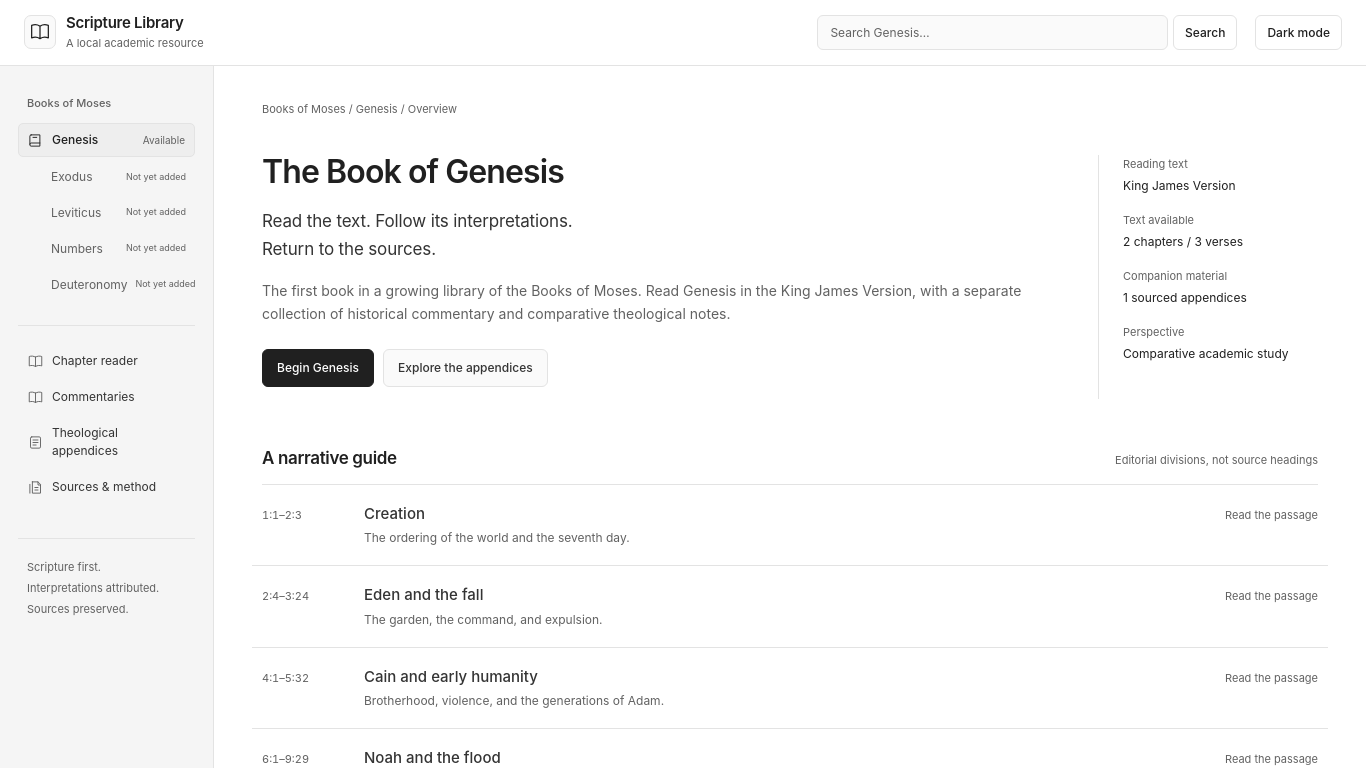
React reader (component-only mocked API) › searches literal whitespace-normalized Scripture, preserving text and empty-state guidance
Expected: the heading "The Book of Genesis" is shown, x1=262 y1=152 x2=564 y2=191
Type "exact wording" into the search field named "Search the Genesis text" at (993, 32), box x1=817 y1=15 x2=1168 y2=50
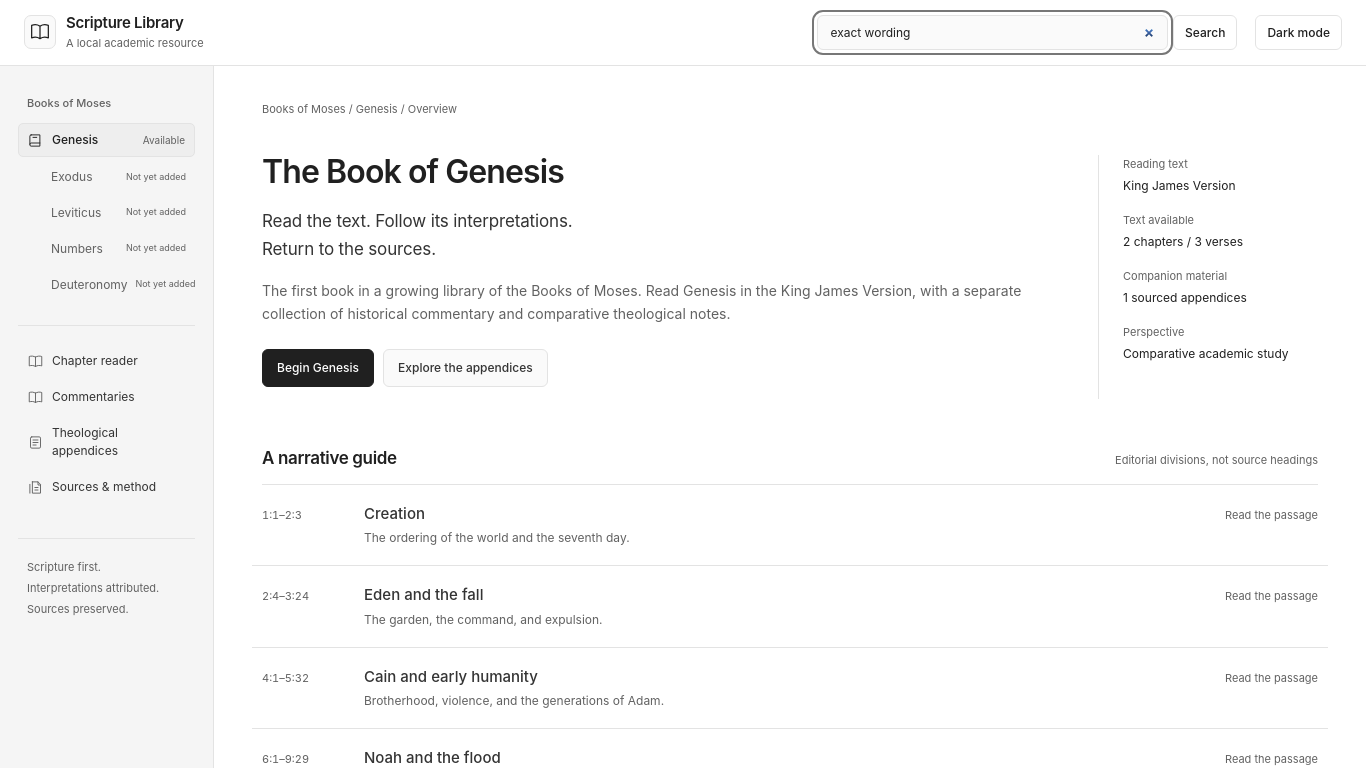
Click the button "Search" at (1205, 32), box x1=1173 y1=15 x2=1237 y2=50
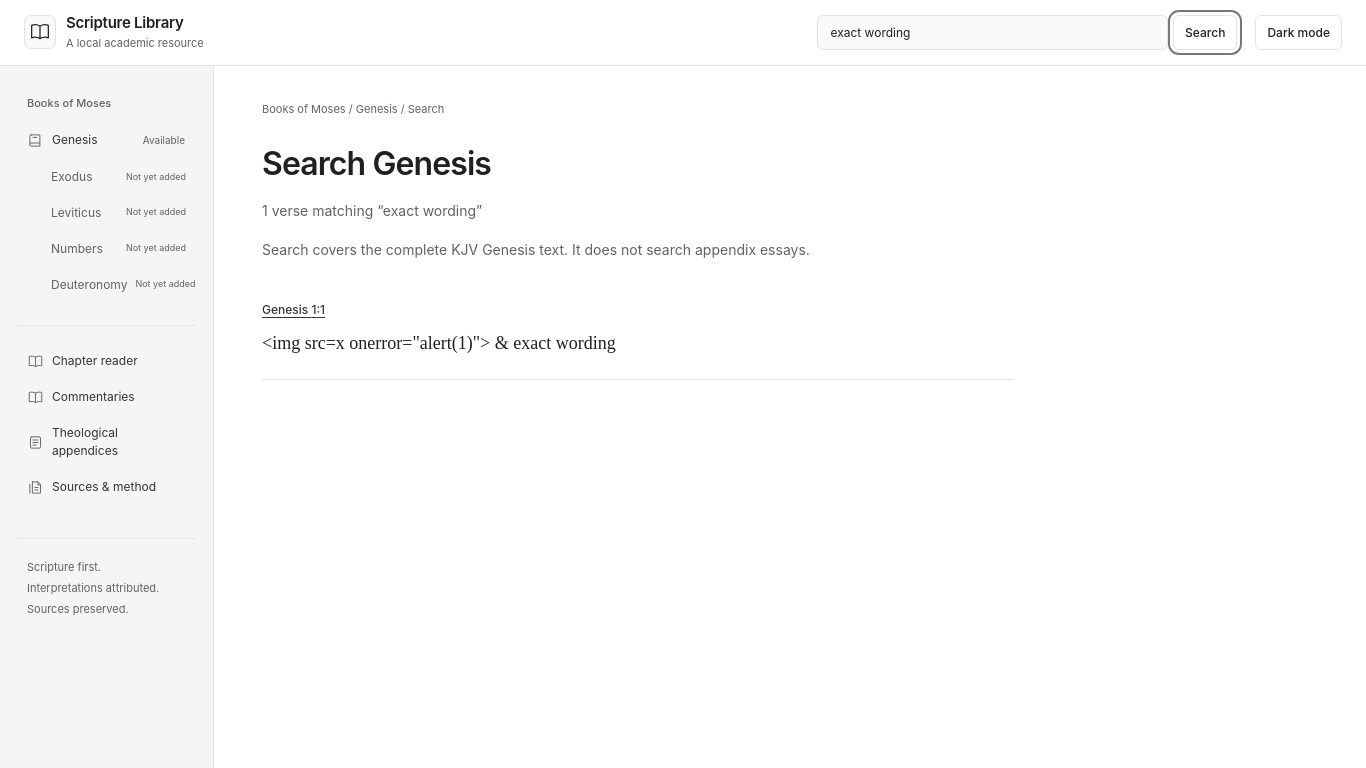
Now the heading "Search Genesis" is shown, box x1=262 y1=144 x2=491 y2=183
Now the text "It does not search appendix essays" is shown, box x1=262 y1=241 x2=810 y2=258
Replace the text in the search field named "Search the Genesis text" with "unmatchedliteral" at (993, 32), box x1=817 y1=15 x2=1168 y2=50
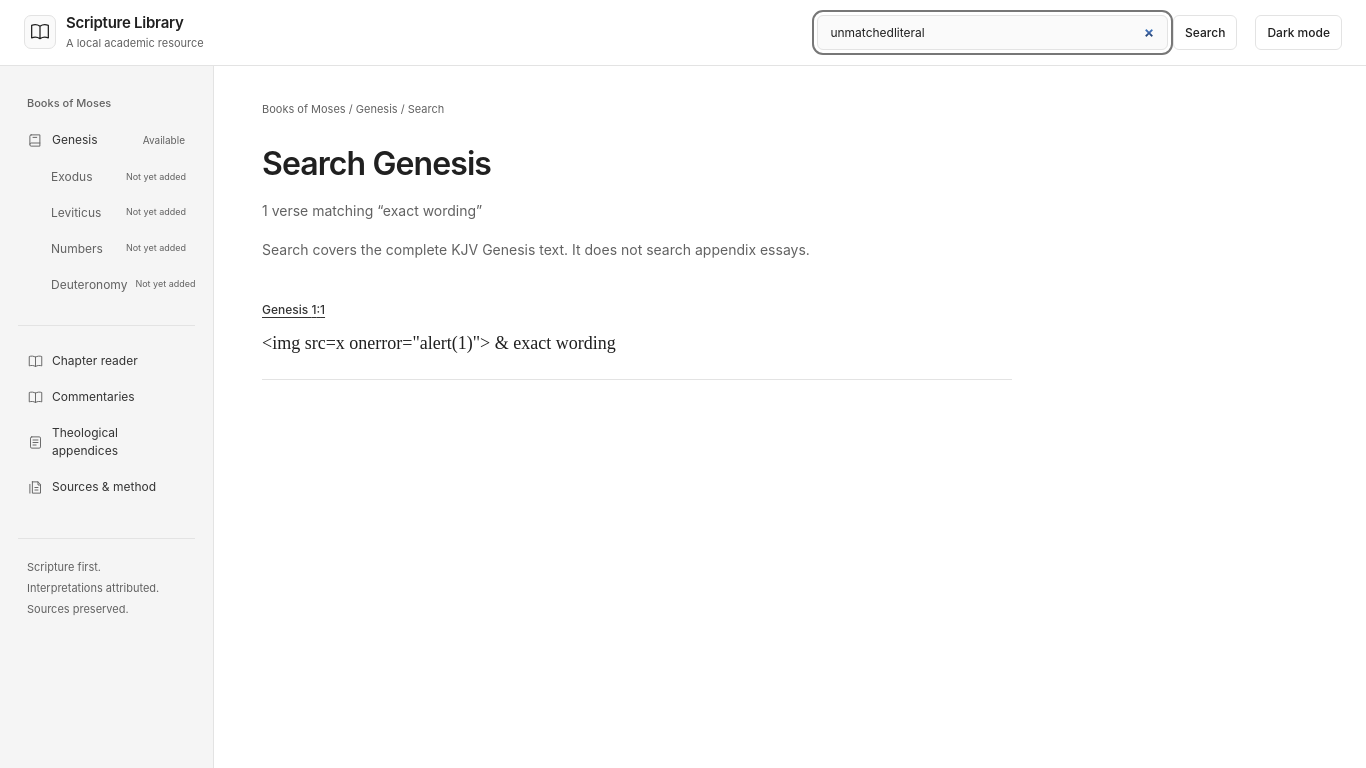
Click the button "Search" at (1205, 32), box x1=1173 y1=15 x2=1237 y2=50
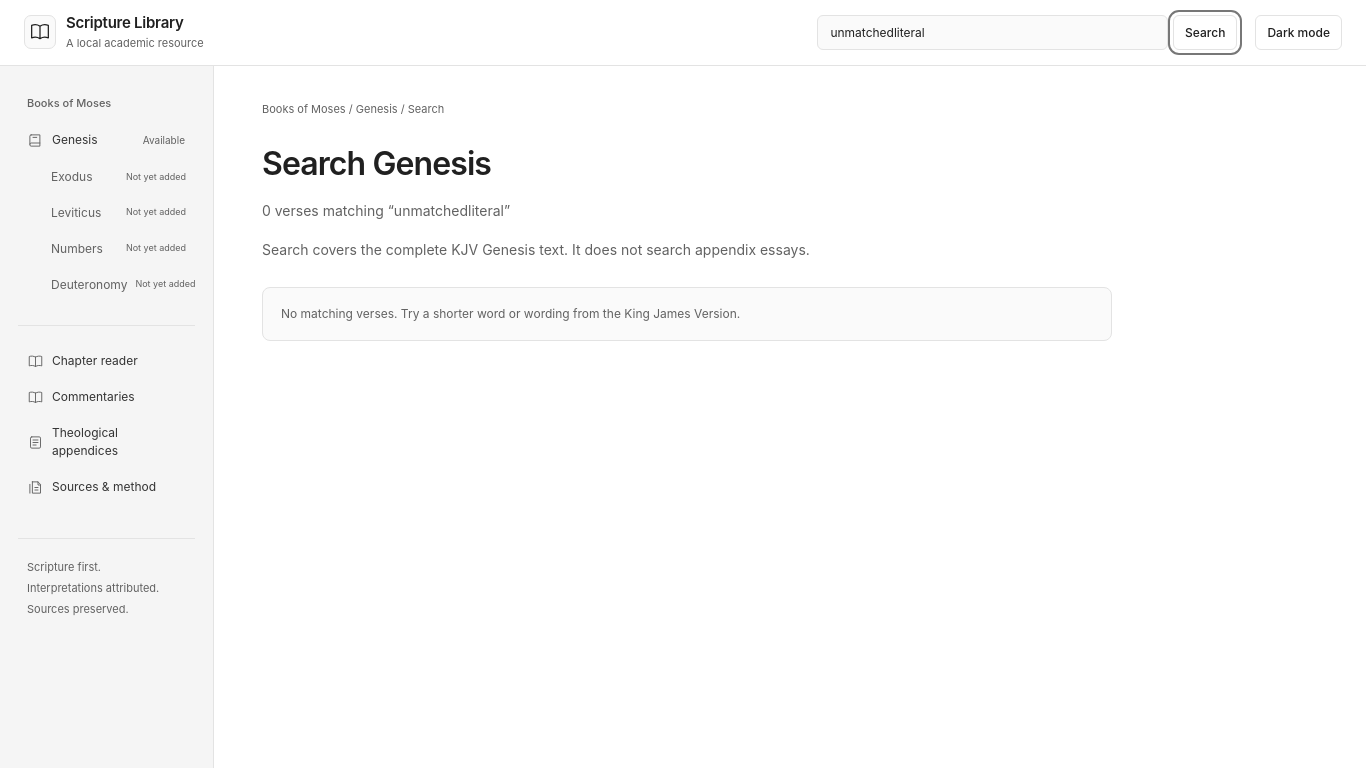
Now the text "No matching verses" is shown, box x1=281 y1=306 x2=740 y2=321
Clear the search field named "Search the Genesis text" at (993, 32), box x1=817 y1=15 x2=1168 y2=50
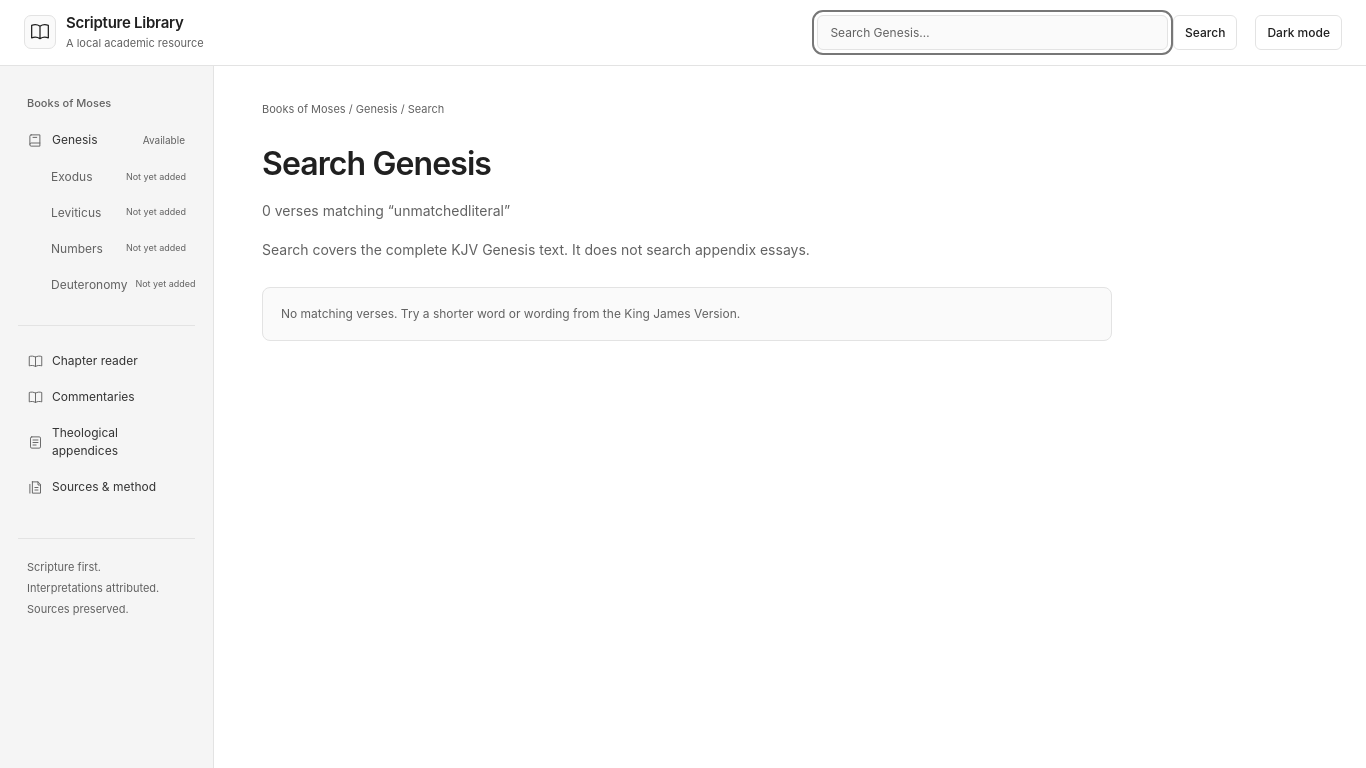
Click the button "Search" at (1205, 32), box x1=1173 y1=15 x2=1237 y2=50
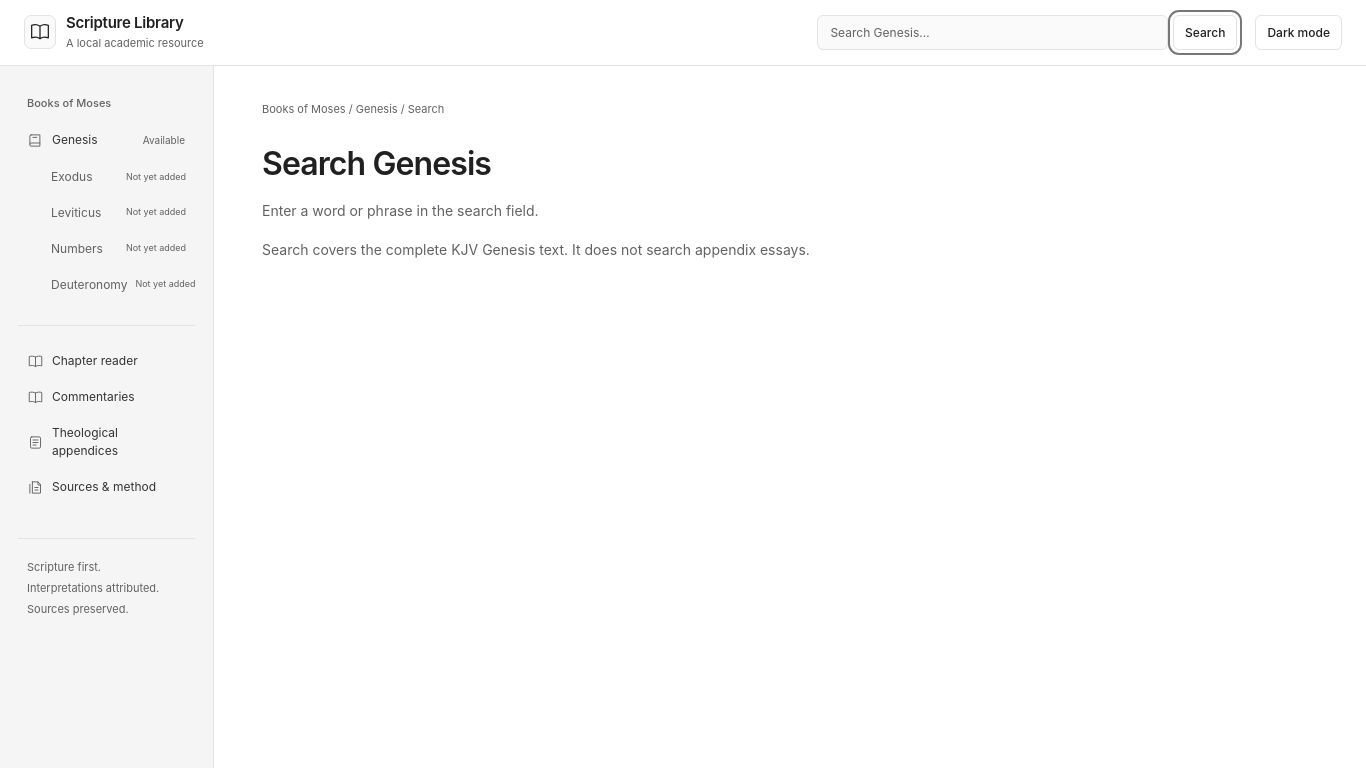
Now the text "Enter a word or phrase in the search field." is shown, box x1=262 y1=202 x2=539 y2=219
